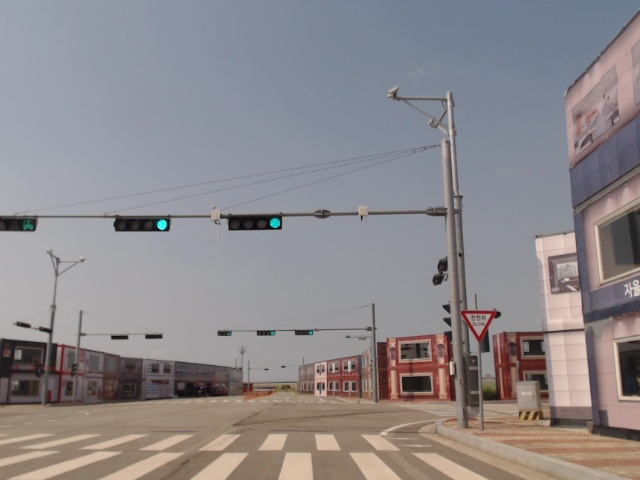straight_green_4: (114, 216, 171, 232), (230, 214, 283, 230), (293, 330, 314, 336), (256, 330, 275, 335)
